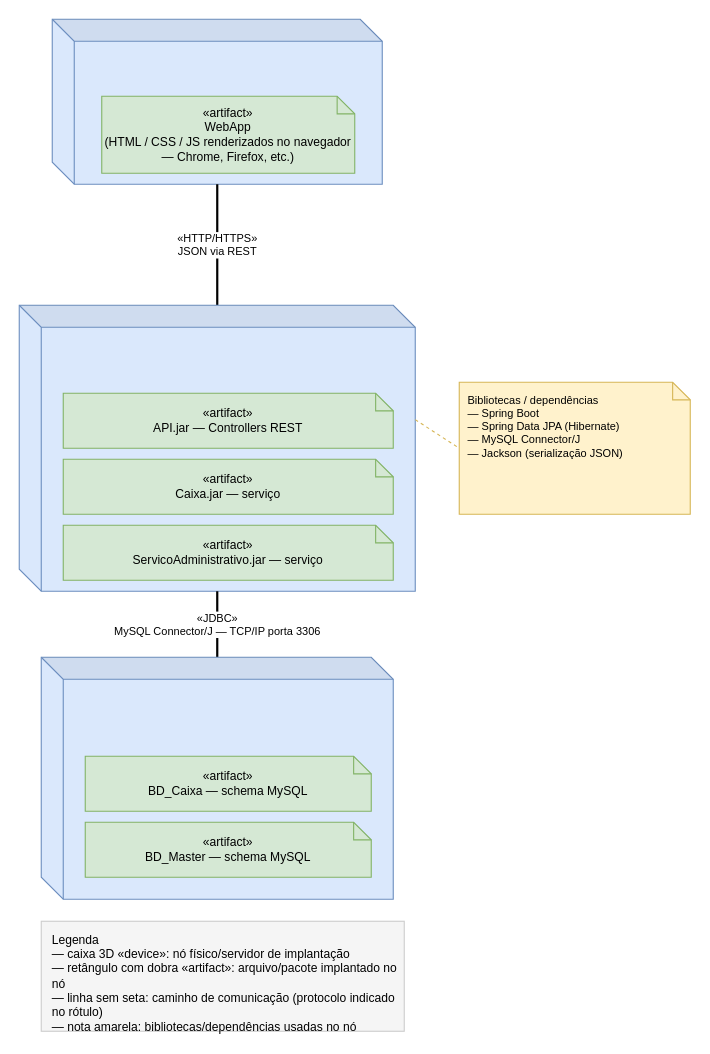
Some shapes in this 710 by 1054 pixel diagram are drawn without their labels. Each missing label, with the box of its shape:
«device» Dispositivo do Cliente: (51, 18, 382, 184)
«device» Servidor de Aplicação (Java): (18, 304, 415, 591)
«device» Servidor de Banco de Dados — MySQL —: (40, 656, 393, 899)
